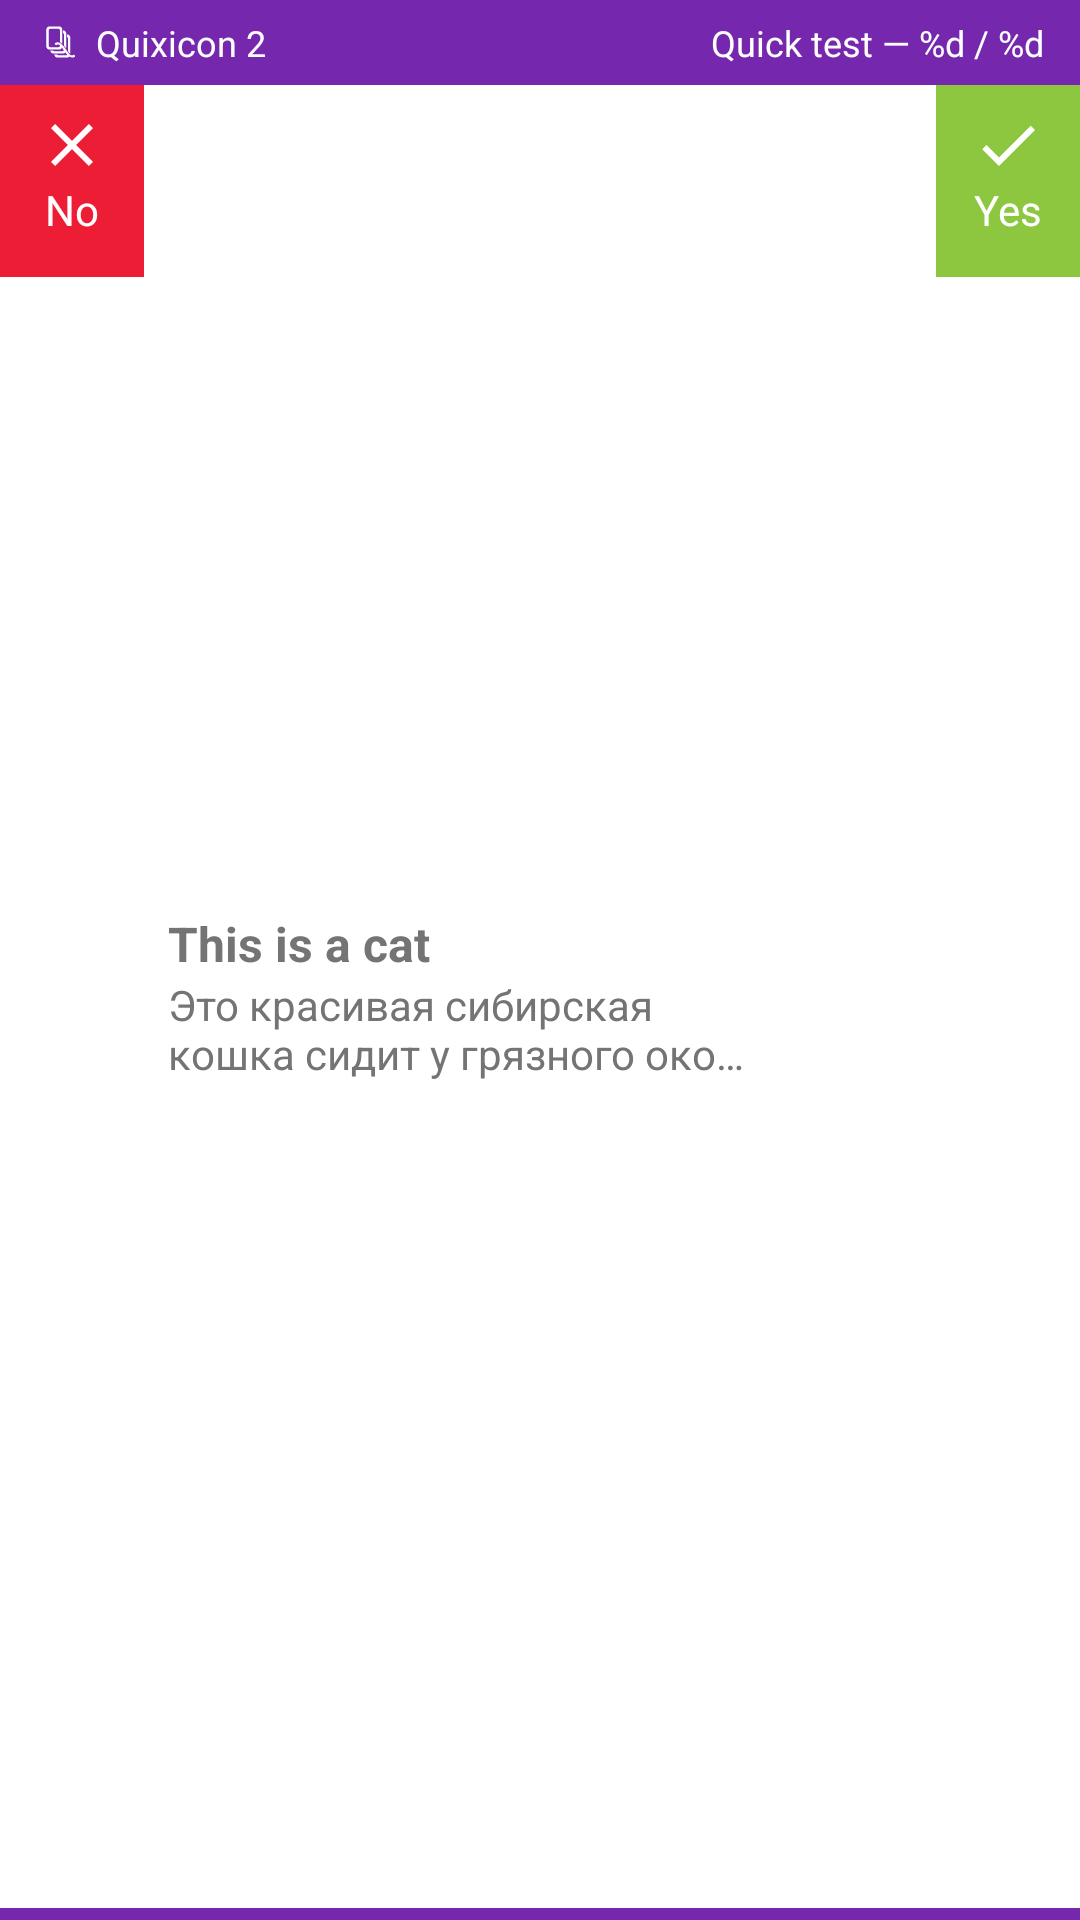

Icons on this 1080w x 1920h Android screen, each with the point to tap as [x,y]:
check: [1008,146]
close: [72,145]
